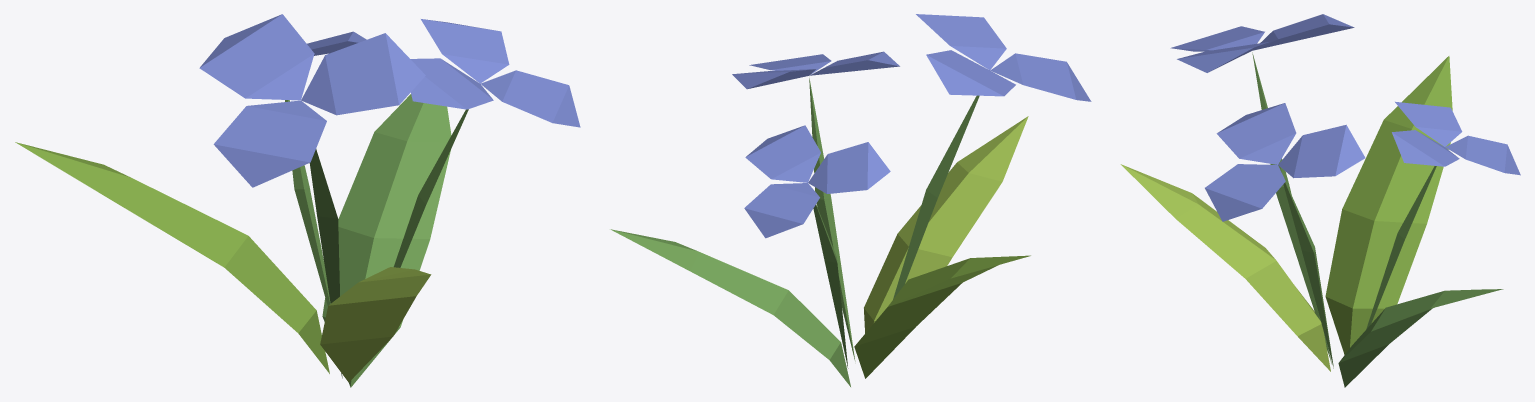
Rendered from flowers2.glb.
3 views of the same model, side by side, from view 1: azimuth 30°, elevation 25°; view 2: azimuth 150°, elevation 25°; view 3: azimuth 270°, elevation 25° (orthographic). The views are drawn at different scales.
Visible parts, largest first — view 1: flowers2; view 2: flowers2; view 3: flowers2.
Boxes of the visible parts, bbox=[...] form: flowers2: bbox=[15, 14, 580, 387]; flowers2: bbox=[610, 14, 1091, 386]; flowers2: bbox=[1120, 14, 1520, 387].
Size of the model in its own units: 1.84 by 1.53 by 1.68.
1 material, 1 textured.
